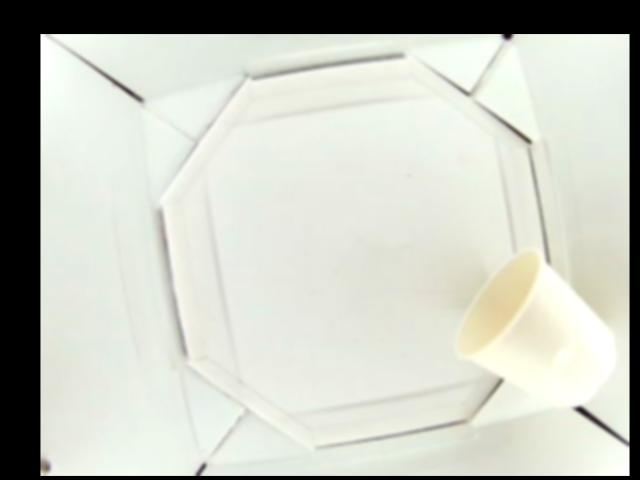Cup: (455, 247, 619, 409)
